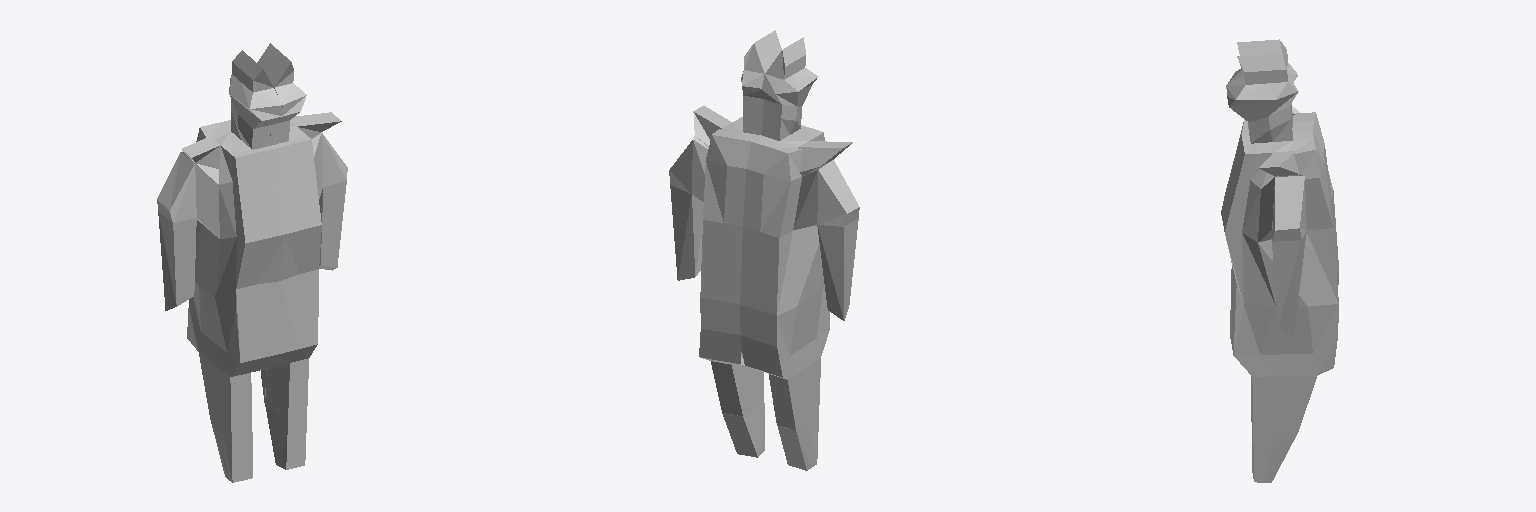
File: perso.obj
The picture shows the model from 3 angles: view 1: azimuth 30°, elevation 25°; view 2: azimuth 150°, elevation 25°; view 3: azimuth 270°, elevation 25°; orthographic projection.
Parts seen in each view (by area): view 1: Plane; view 2: Plane; view 3: Plane.
Boxes of the visible parts, x1=… form: Plane: x1=157, y1=43, x2=347, y2=482; Plane: x1=669, y1=30, x2=859, y2=470; Plane: x1=1221, y1=39, x2=1338, y2=482.
Size of the model in its own units: 3.58 by 8.05 by 2.05.